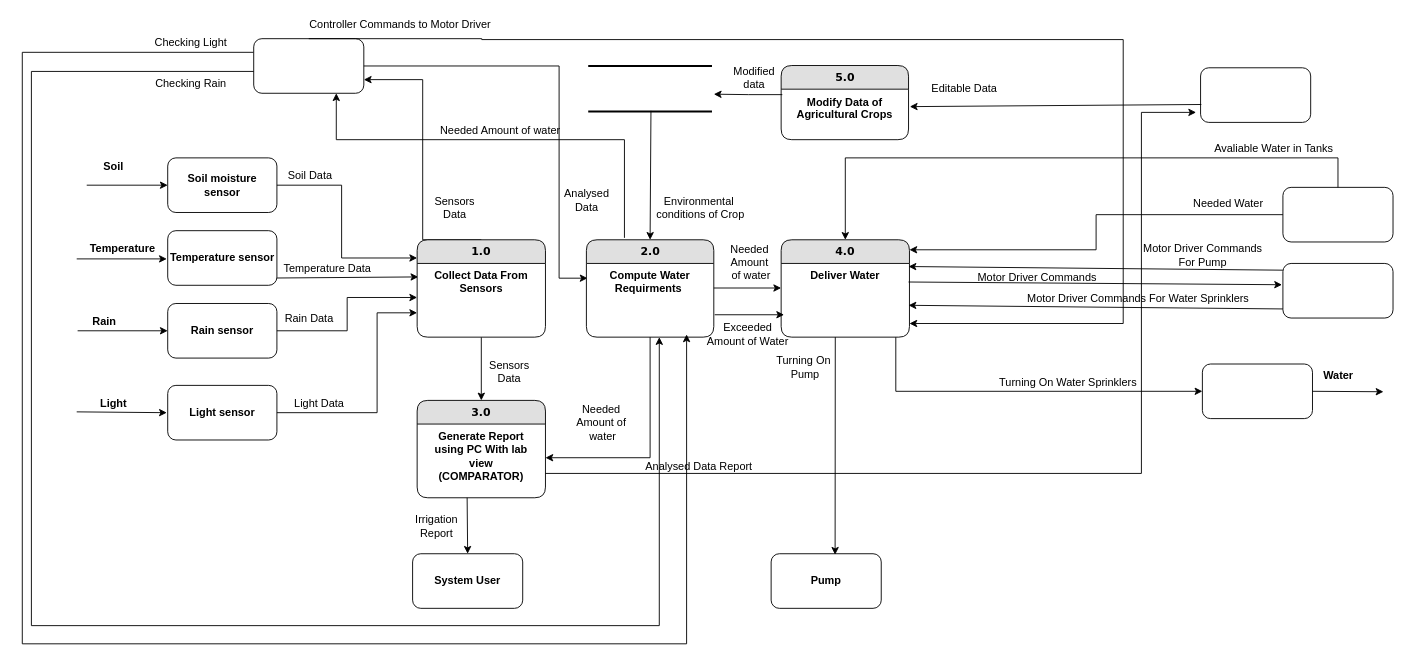
Some shapes in this 1410 by 667 pixel diagram are drawn without their labels. The box of each missing label's shape, as (x1, y1, x2, y2) in pixels:
Agricultural Crops: (587, 65, 712, 112)
Analyst: (1200, 67, 1311, 122)
Motor Driver: (1282, 263, 1393, 318)
Ni My Rio Controller: (253, 38, 364, 93)
Water Sprinklers: (1201, 363, 1312, 419)
Water Tanks: (1282, 186, 1393, 242)
